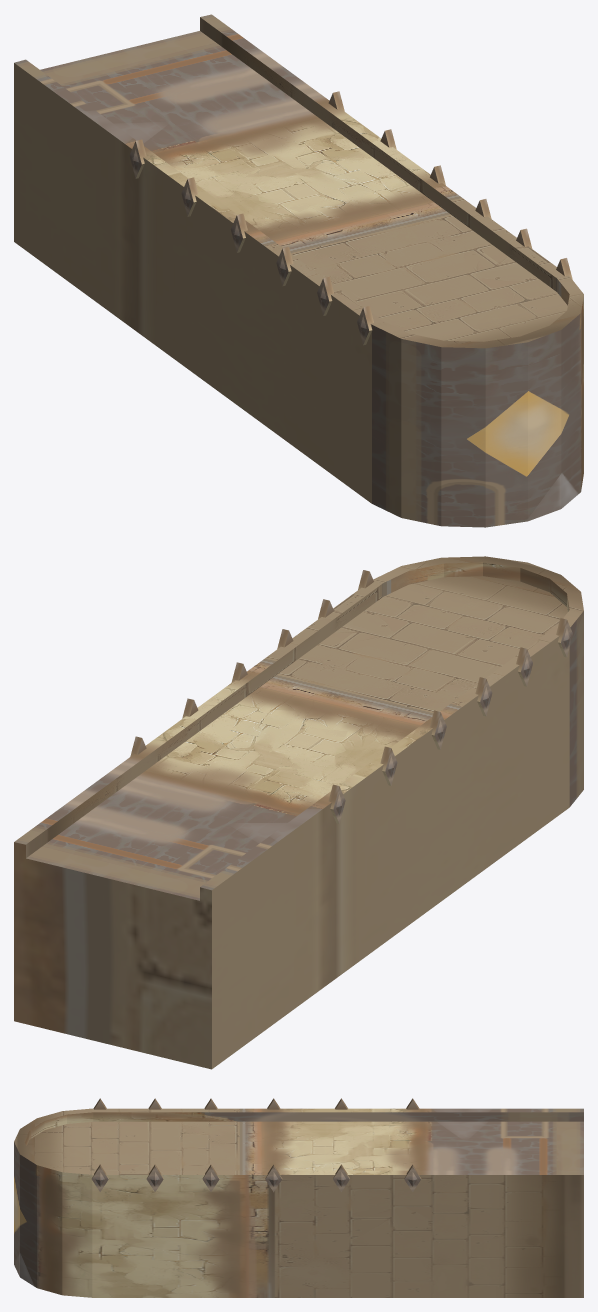
Rendered from Main_1007_obj_01.fbx.
3 views of the same model, one above another, from view 1: azimuth 30°, elevation 25°; view 2: azimuth 150°, elevation 25°; view 3: azimuth 270°, elevation 25° (orthographic). The views are drawn at different scales.
Visible parts, largest first — view 1: Circle.005, Cube.018, Cube.020; view 2: Circle.005, Cube.020; view 3: Circle.005, Cube.016, Cube.017, Cube.020, Cube.014, Cube.015, Cube.018.
Boxes of the visible parts, <box> form: Circle.005: <box>14,14,583,527</box>; Cube.018: <box>181,129,396,216</box>; Cube.020: <box>129,91,344,178</box>; Circle.005: <box>14,556,583,1069</box>; Cube.020: <box>130,736,345,823</box>; Circle.005: <box>14,1108,583,1297</box>; Cube.016: <box>202,1098,219,1191</box>; Cube.017: <box>265,1098,282,1192</box>; Cube.020: <box>404,1098,421,1191</box>; Cube.014: <box>91,1098,108,1191</box>; Cube.015: <box>146,1098,163,1191</box>; Cube.018: <box>333,1098,349,1191</box>.
Bounding box in the file's own units: 196 × 173 × 673.
